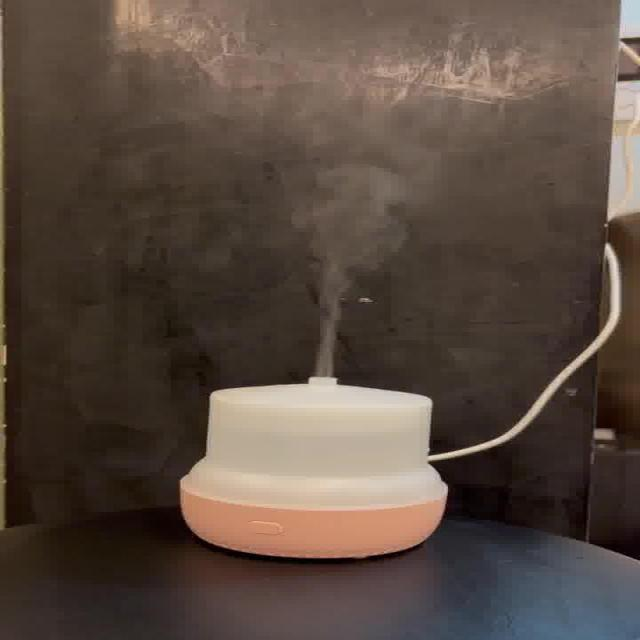fire: (269, 125, 447, 375)
